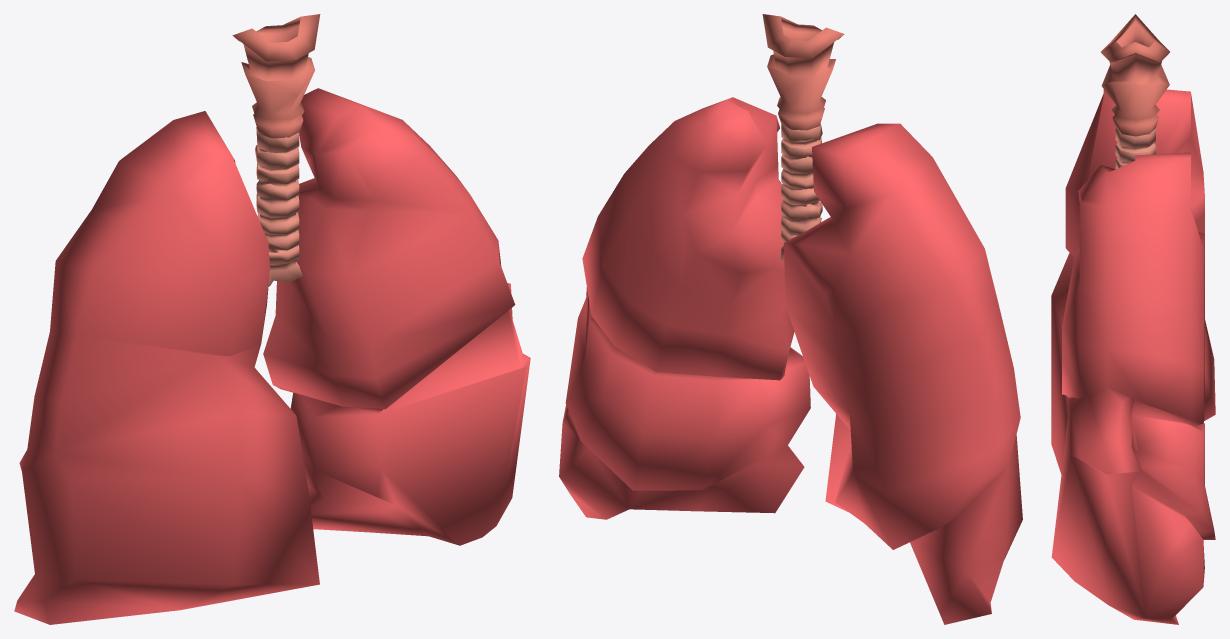
Rendered from lungs.glb.
3 views of the same model, side by side, from view 1: azimuth 30°, elevation 25°; view 2: azimuth 150°, elevation 25°; view 3: azimuth 270°, elevation 25° (orthographic). The views are drawn at different scales.
Parts seen in each view (by area): view 1: Cube.002, Cube.001, Circle, Circle.001; view 2: Cube.001, Cube.002, Circle, Circle.001; view 3: Cube.001, Cube.002, Circle, Circle.001.
Part boxes in pixels (x1,y1,x2,y2): Cube.002: (14, 111, 319, 624); Cube.001: (263, 88, 530, 545); Circle: (232, 14, 320, 138); Circle.001: (255, 127, 302, 286); Cube.001: (559, 97, 810, 519); Cube.002: (783, 123, 1022, 624); Circle: (762, 14, 844, 130); Circle.001: (780, 123, 822, 260); Cube.001: (1051, 152, 1215, 624); Cube.002: (1051, 89, 1215, 474); Circle: (1101, 14, 1169, 136); Circle.001: (1115, 128, 1155, 168).
Bounding box in the file's own units: 3.8 × 4.38 × 1.26.
